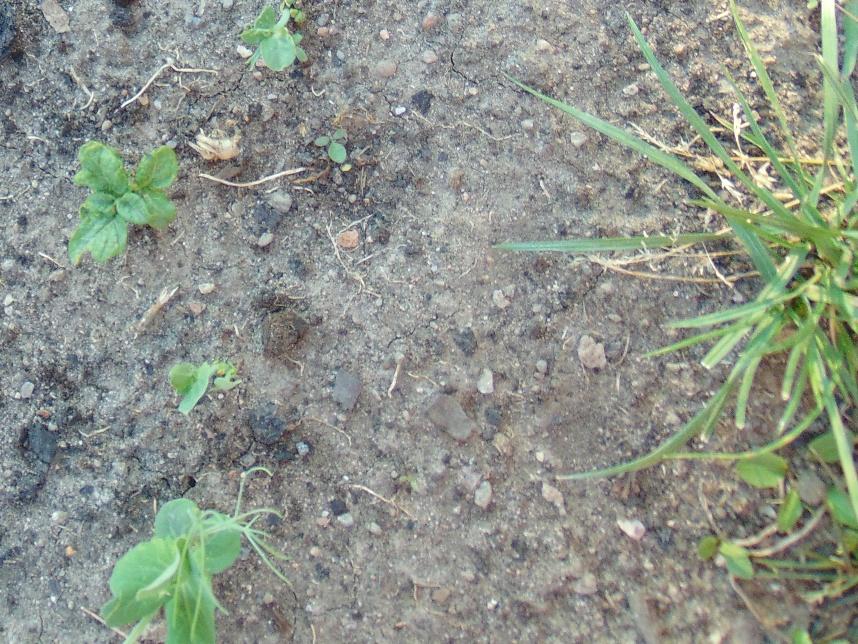crop: (99, 478, 275, 644), (243, 1, 305, 74)
weed: (620, 19, 858, 644), (70, 138, 182, 262)
